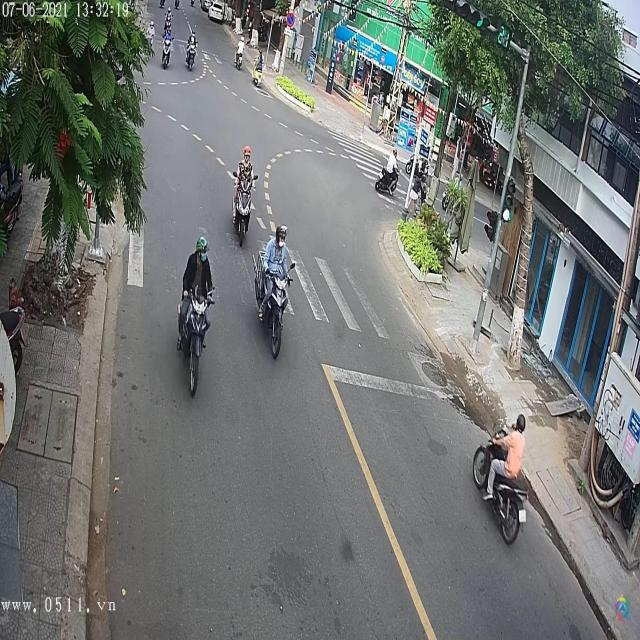motorcycle: (469, 411, 531, 543), (252, 240, 295, 362), (177, 262, 214, 398), (228, 160, 258, 248), (376, 156, 402, 198), (374, 159, 401, 198), (183, 34, 200, 74), (161, 39, 173, 74)
